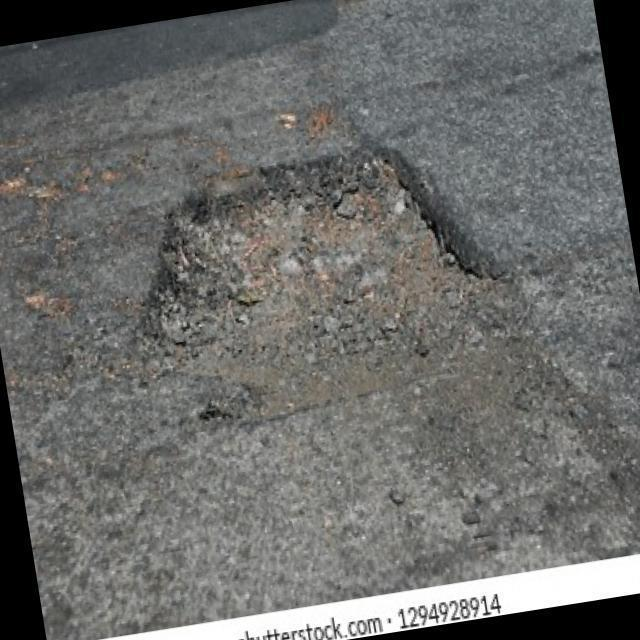pothole: (116, 116, 520, 437)
